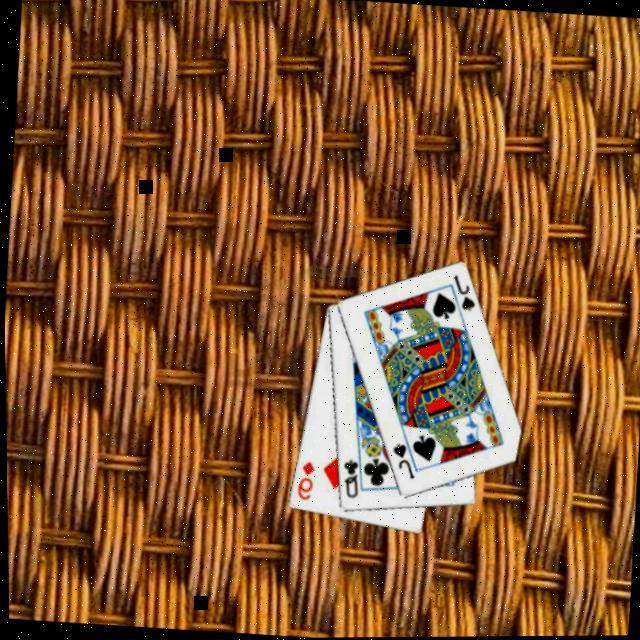6D: (292, 460, 318, 504)
JS: (387, 442, 420, 484), (448, 273, 479, 315)
QC: (337, 458, 363, 502)
